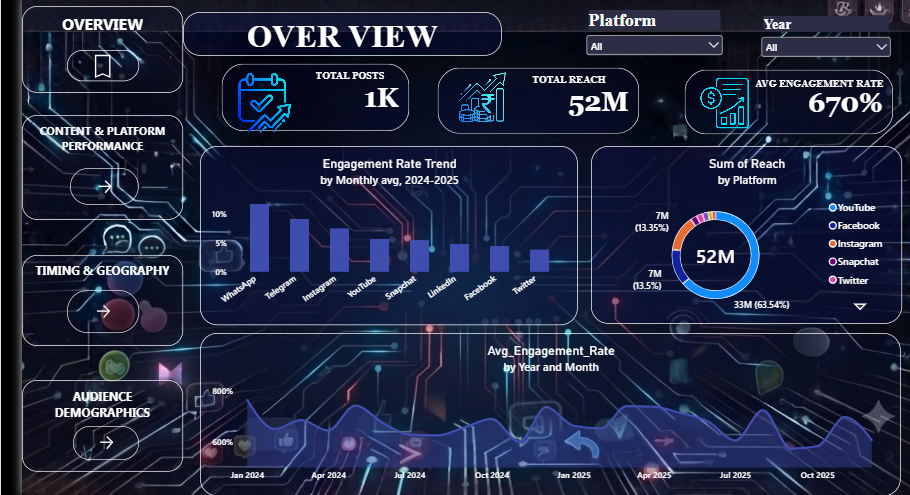

The page's visual inventory and layout, read from the dashboard file:
{"tool":"powerbi","page":{"name":"OVER VIEW","canvas":[1280,720],"ordinal":1},"visuals":[{"type":"cardVisual","title":"TOTAL POSTS","fields":{"Data":["Engagement System Data.Total_Posts"]},"box":[286.6,96.5,272.2,99.4],"z":0},{"type":"cardVisual","title":"TOTAL POSTS","fields":{"Data":["Engagement System Data.Total_Reach"]},"box":[597.6,102.2,292.3,97.9],"z":1000},{"type":"cardVisual","title":"TOTAL POSTS","fields":{"Data":["Final Dataset.Avg_Engagement_Rate"]},"box":[953.3,105.1,302.4,95],"z":2000},{"type":"areaChart","fields":{"Y":["Final Dataset.Avg_Engagement_Rate"],"Category":["Engagement System Data.Post Date.Variation.Date Hierarchy.Year","Engagement System Data.Post Date.Variation.Date Hierarchy.Month"]},"box":[256.3,485.3,1009.4,234.7],"z":3000},{"type":"donutChart","fields":{"Category":["Engagement System Data.Platform"],"Y":["Sum(Engagement System Data.Reach)"]},"box":[819.4,216,447.8,256.3],"z":4000},{"type":"columnChart","fields":{"Y":["Final Dataset.Weighted_Engagement_Rate %"],"Category":["Engagement System Data.Platform"]},"box":[256.3,216,544.3,257.8],"z":5000},{"type":"shape","box":[0,14.4,231.8,125.3],"z":6000},{"type":"shape","box":[0,553,231.8,132.5],"z":7000},{"type":"shape","box":[0,373,231.8,131],"z":8000},{"type":"shape","box":[0,171.4,231.8,151.2],"z":9000},{"type":"image","box":[286.6,93.6,122.4,113.8],"z":10000},{"type":"image","box":[564.5,60.5,197.3,171.4],"z":11000},{"type":"group","id":"g1","title":"Group 3","box":[966.2,102.2,93.6,103.7],"z":12000},{"type":"actionButton","box":[231.8,23,459.4,63.4],"z":13000},{"type":"actionButton","box":[69.1,247.7,99.4,53.3],"z":14000},{"type":"actionButton","box":[64.8,423.4,103.7,61.9],"z":15000},{"type":"actionButton","box":[73.4,619.2,95,49],"z":16000},{"type":"image","box":[966.2,102.2,93.6,103.7],"z":16001,"group":"g1"},{"type":"actionButton","box":[64.8,77.8,103.7,44.6],"z":17000},{"type":"slicer","fields":{"Values":["Engagement System Data.Platform"]},"box":[807.8,20.2,205.9,69.1],"z":18000},{"type":"slicer","fields":{"Values":["Engagement System Data.Year"]},"box":[1059.8,28.8,195.8,63.4],"z":19000},{"type":"actionButton","box":[409,96.5,126.7,38.9],"z":19001},{"type":"actionButton","box":[722.9,102.2,132.5,38.9],"z":19002},{"type":"actionButton","box":[1044,108,211.7,38.9],"z":19003}]}

Visuals, with their boxes on the page's 1280x720 design canvas (x1, y1, x2, y2). These are canvas units, not pixel positions in the 910x495 screenshot, which may show the page scaled, cropped or inside an application window:
"TOTAL POSTS" cardVisual: [287,96,559,196]
"TOTAL POSTS" cardVisual: [598,102,890,200]
"TOTAL POSTS" cardVisual: [953,105,1256,200]
areaChart - Final Dataset.Avg_Engagement_Rate x Engagement System Data.Post Date.Variation.Date Hierarchy.Year: [256,485,1266,720]
donutChart - Engagement System Data.Platform x Sum(Engagement System Data.Reach): [819,216,1267,472]
columnChart - Final Dataset.Weighted_Engagement_Rate % x Engagement System Data.Platform: [256,216,801,474]
shape: [0,14,232,140]
shape: [0,553,232,686]
shape: [0,373,232,504]
shape: [0,171,232,323]
image: [287,94,409,207]
image: [564,60,762,232]
"Group 3" group: [966,102,1060,206]
actionButton: [232,23,691,86]
actionButton: [69,248,168,301]
actionButton: [65,423,168,485]
actionButton: [73,619,168,668]
image: [966,102,1060,206]
actionButton: [65,78,168,122]
slicer - Engagement System Data.Platform: [808,20,1014,89]
slicer - Engagement System Data.Year: [1060,29,1256,92]
actionButton: [409,96,536,135]
actionButton: [723,102,855,141]
actionButton: [1044,108,1256,147]
